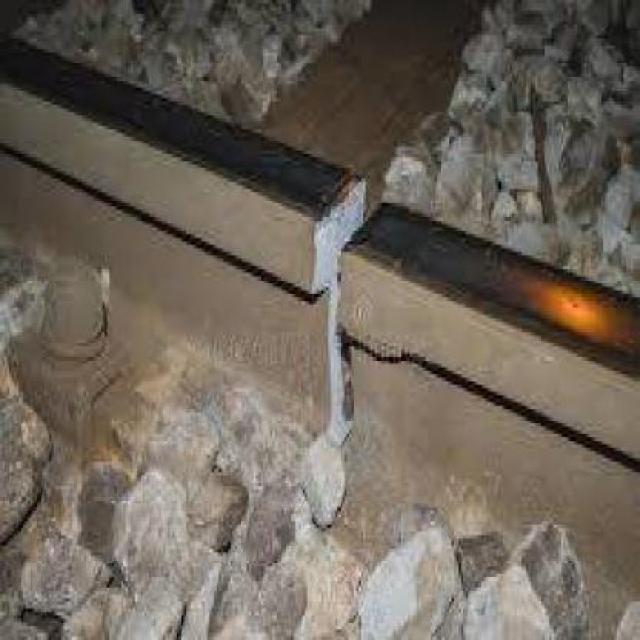defective: (71, 39, 640, 578)
